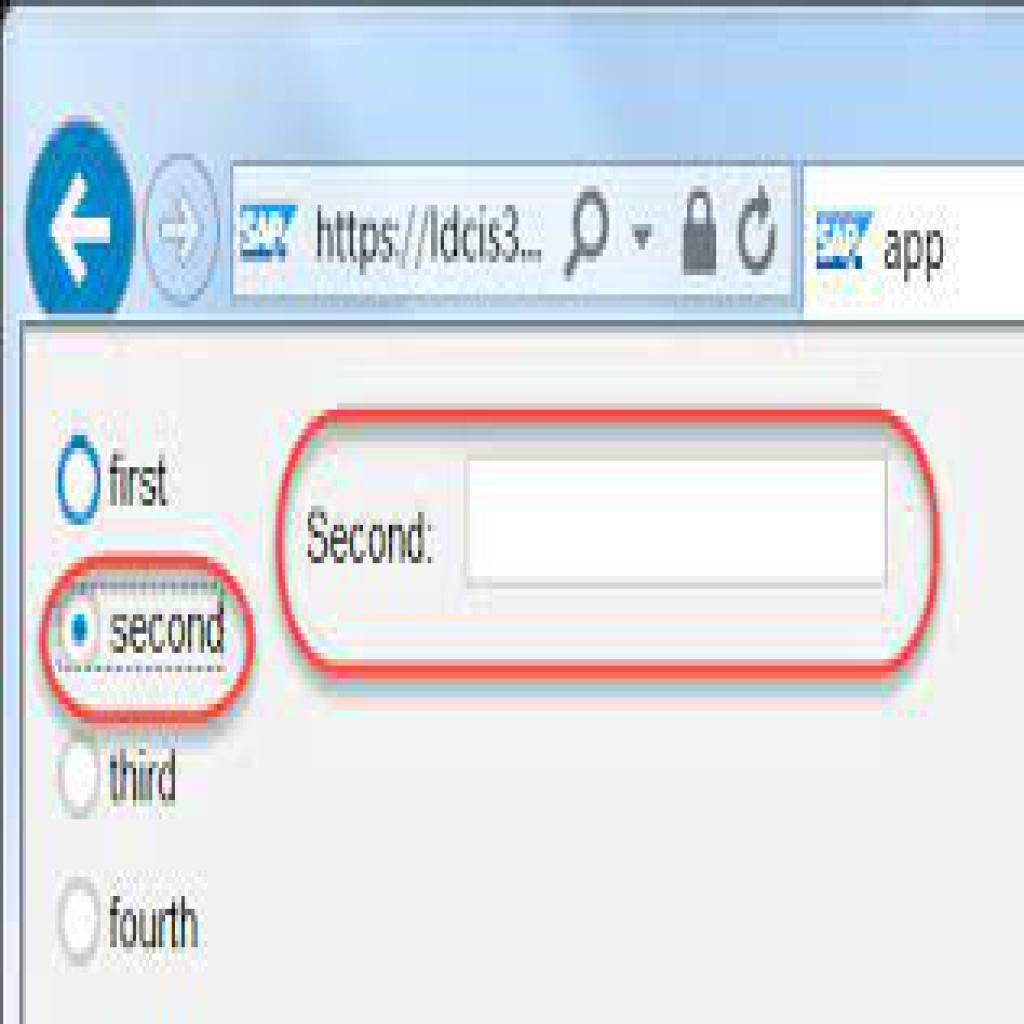icon: (734, 181, 780, 282), (681, 185, 721, 280)
input: (464, 461, 886, 584)
radio: (53, 725, 109, 846), (49, 865, 101, 990), (55, 429, 110, 540), (58, 590, 106, 669)
